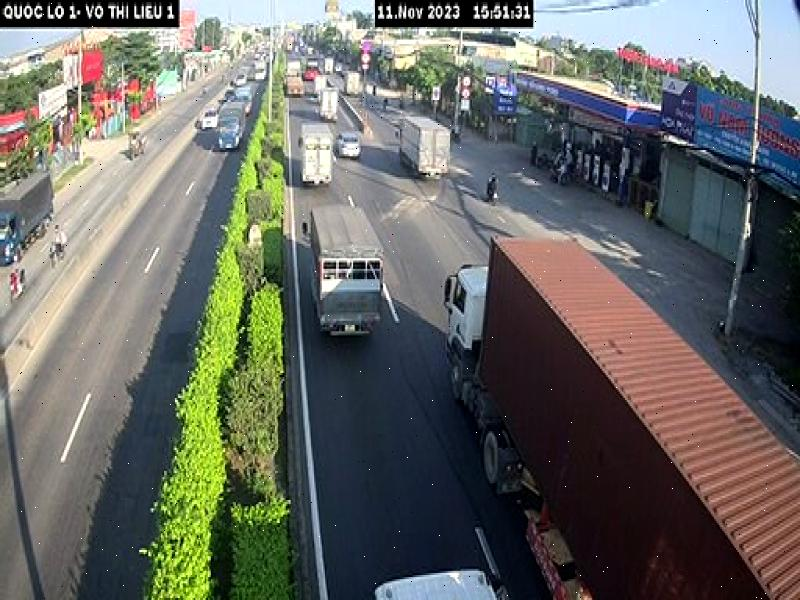truck: (445, 237, 800, 600), (300, 209, 383, 339), (396, 111, 451, 178), (296, 117, 334, 187), (217, 96, 245, 152)
